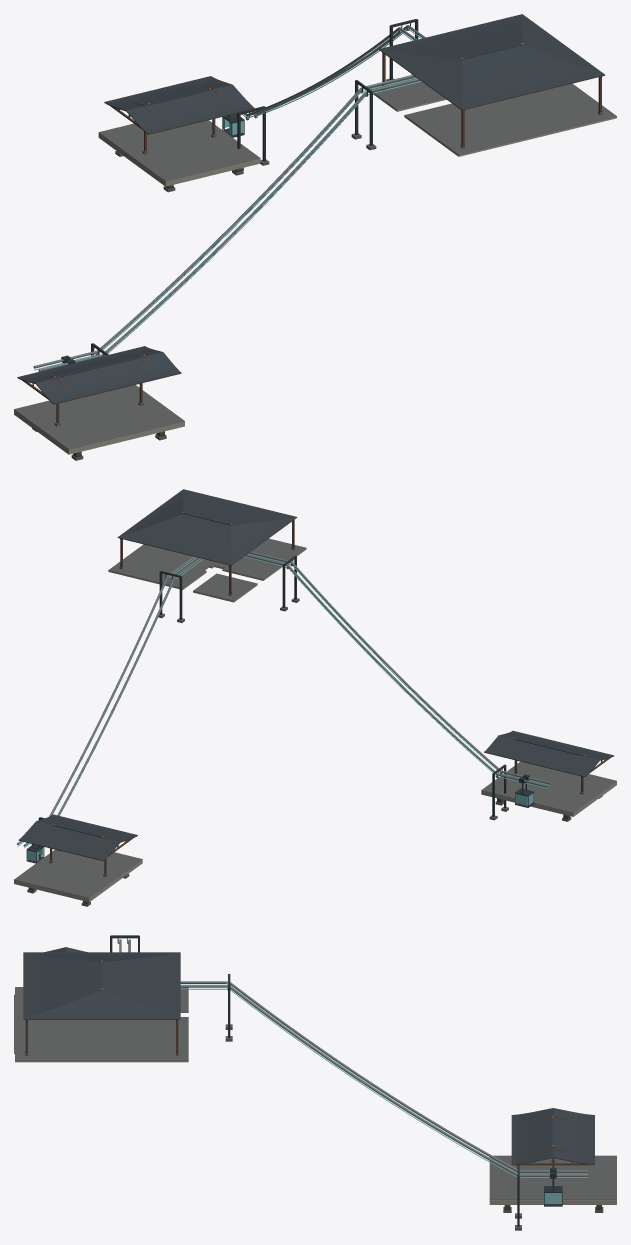
3 renders of one model, top to bottom at view 1: azimuth 30°, elevation 25°; view 2: azimuth 150°, elevation 25°; view 3: azimuth 270°, elevation 25°, orthographic. The views are drawn at different scales.
Visible parts, largest first — view 1: 石铺面与混凝土承板 (×3), 连续飞檐与梁椽 (×3), 连续双承载索与独立引导条 (×2); view 2: 连续飞檐与梁椽 (×3), 石铺面与混凝土承板 (×3), 连续双承载索与独立引导条 (×2); view 3: 连续飞檐与梁椽 (×2), 石铺面与混凝土承板 (×2), 连续双承载索与独立引导条.
Boxes of the visible parts, x1,y1,x2,y2 form: 石铺面与混凝土承板 (×3): (14, 77, 616, 454); 连续飞檐与梁椽 (×3): (17, 14, 605, 404); 连续双承载索与独立引导条 (×2): (33, 25, 425, 371); 连续飞檐与梁椽 (×3): (18, 489, 614, 860); 石铺面与混凝土承板 (×3): (14, 538, 616, 902); 连续双承载索与独立引导条 (×2): (17, 551, 551, 847); 连续飞檐与梁椽 (×2): (23, 952, 594, 1165); 石铺面与混凝土承板 (×2): (15, 987, 616, 1204); 连续双承载索与独立引导条: (180, 981, 587, 1178).
Bounding box in the file's own units: 105 × 49.2 × 104.
14 materials, 14 textured.
